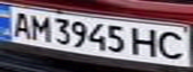3: (48, 16, 72, 46)
4: (87, 20, 109, 52)
5: (106, 22, 130, 55)
9: (66, 18, 90, 50)
A: (6, 9, 36, 39)
C: (154, 28, 190, 62)
H: (130, 25, 163, 58)
M: (27, 11, 54, 43)
